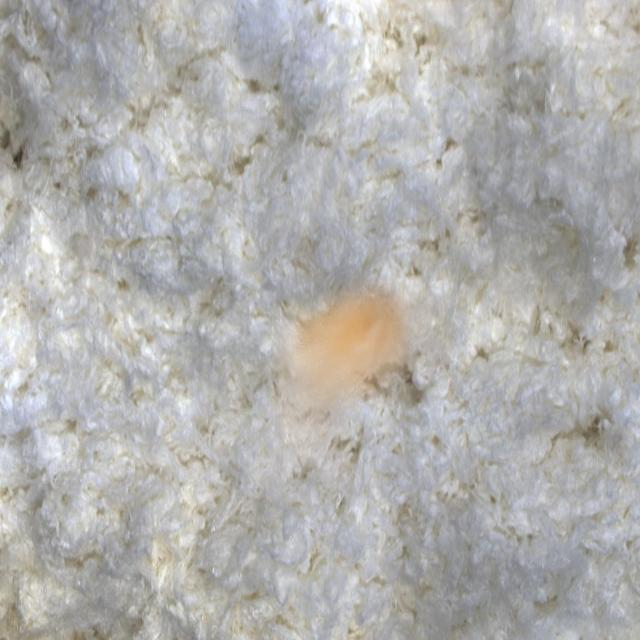dust: (255, 273, 446, 503)
